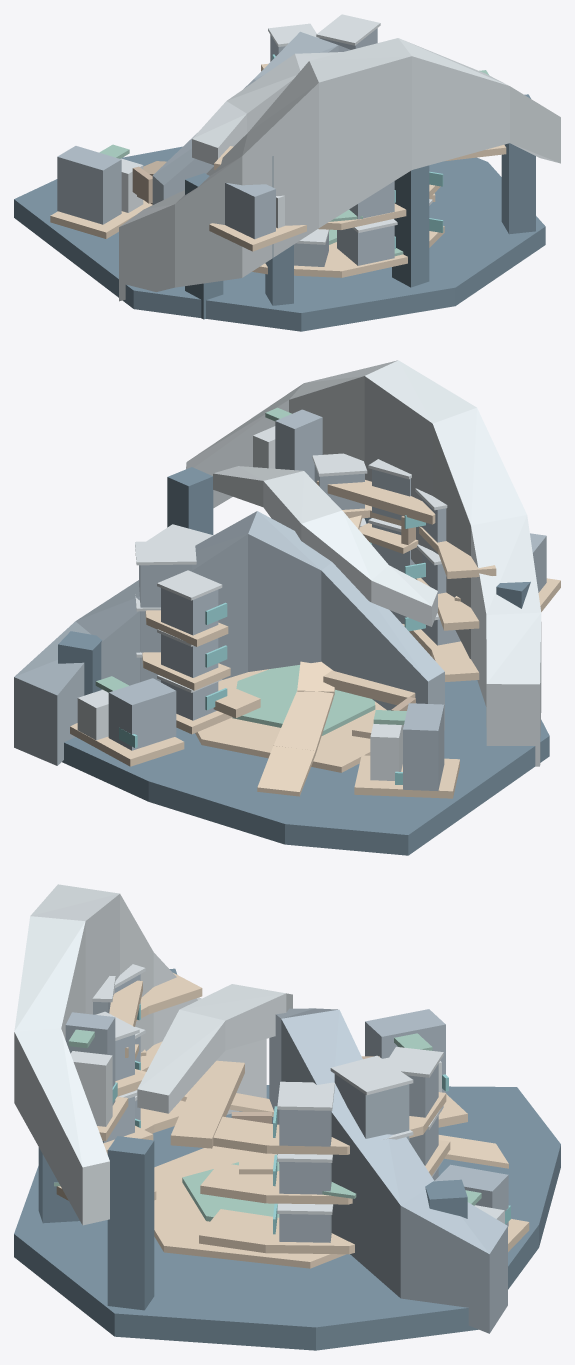
The model's file is a26_civic_rift.glb.
3 views of the same model, one above another, from view 1: azimuth 30°, elevation 25°; view 2: azimuth 150°, elevation 25°; view 3: azimuth 270°, elevation 25° (orthographic). The views are drawn at different scales.
Parts seen in each view (by area): view 1: A26 CIVIC SKY-RIFT / INHABITED MEGAFOLD; view 2: A26 CIVIC SKY-RIFT / INHABITED MEGAFOLD; view 3: A26 CIVIC SKY-RIFT / INHABITED MEGAFOLD.
Boxes of the visible parts, x1,y1,x2,y2 form: A26 CIVIC SKY-RIFT / INHABITED MEGAFOLD: (14,14,560,331); A26 CIVIC SKY-RIFT / INHABITED MEGAFOLD: (14,360,560,855); A26 CIVIC SKY-RIFT / INHABITED MEGAFOLD: (14,884,560,1350).
Size of the model in its own units: 316 by 192 by 299.
